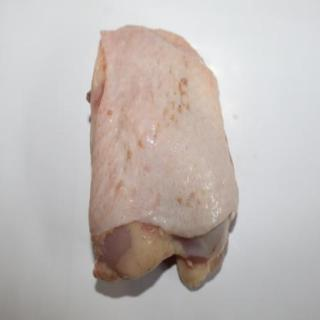Ayam: (90, 26, 240, 292)
